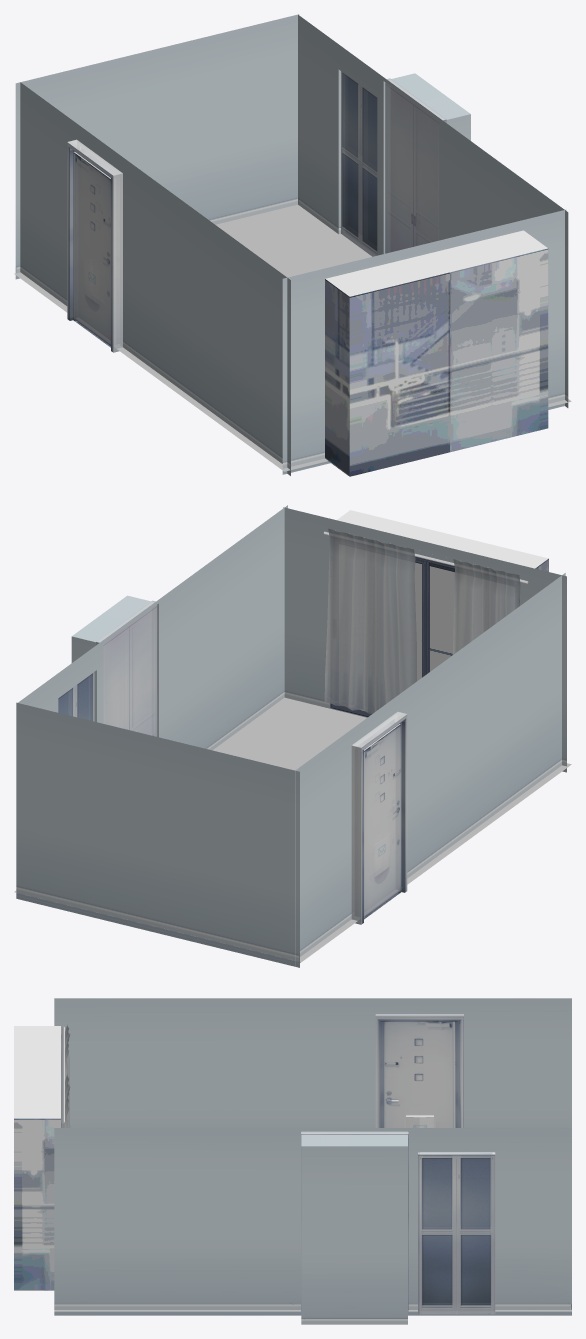
File: Bedroom Walls Floor Etc.fbx
The picture shows the model from 3 angles, top to bottom: view 1: azimuth 30°, elevation 25°; view 2: azimuth 150°, elevation 25°; view 3: azimuth 270°, elevation 25°; orthographic projection. The views are drawn at different scales.
Parts seen in each view (by area): view 1: BalconyViewBox, Wall W, Wall N, Wall E, Wall S, Wardrobe Door, Floor, Front Door, WC DOor, Front DoorFrame; view 2: Wall N, Wall W, Wall E, Shelf Curtain.001, Wall S, Floor, BalconyScreenDoor, Front Door, Wardrobe Door, Front DoorFrame, Shelf Curtain.002, BalconyViewBox (+1 smaller); view 3: Wall E, Wall W, WC DOor, BalconyViewBox, Front Door, Front DoorFrame, Wardrobe Door, Floor.
Boxes of the visible parts, x1,y1,x2,y2 form: BalconyViewBox: (325, 230, 548, 476); Wall W: (20, 82, 290, 475); Wall N: (15, 14, 299, 279); Wall E: (298, 15, 568, 407); Wall S: (282, 209, 566, 474); Wardrobe Door: (385, 78, 446, 253); Floor: (14, 204, 571, 471); Front Door: (73, 151, 110, 345); WC DOor: (341, 71, 377, 256); Front DoorFrame: (67, 139, 122, 352); Wall N: (16, 702, 299, 967); Wall W: (295, 573, 565, 966); Wall E: (18, 505, 287, 750); Shelf Curtain.001: (324, 528, 416, 713); Wall S: (283, 507, 566, 772); Floor: (14, 697, 571, 962); BalconyScreenDoor: (330, 537, 519, 716); Front Door: (364, 724, 400, 917); Wardrobe Door: (96, 600, 157, 736); Front DoorFrame: (351, 712, 407, 924); Shelf Curtain.002: (452, 559, 520, 654); BalconyViewBox: (337, 510, 548, 571); Wall E: (54, 1128, 571, 1324); Wall W: (54, 998, 571, 1127); WC DOor: (418, 1152, 495, 1314); BalconyViewBox: (14, 1026, 60, 1290); Front Door: (384, 1021, 455, 1127); Front DoorFrame: (375, 1014, 463, 1127); Wardrobe Door: (301, 1132, 408, 1313); Floor: (54, 1310, 571, 1311).
Size of the model in its own units: 1083 by 637 by 1716.
